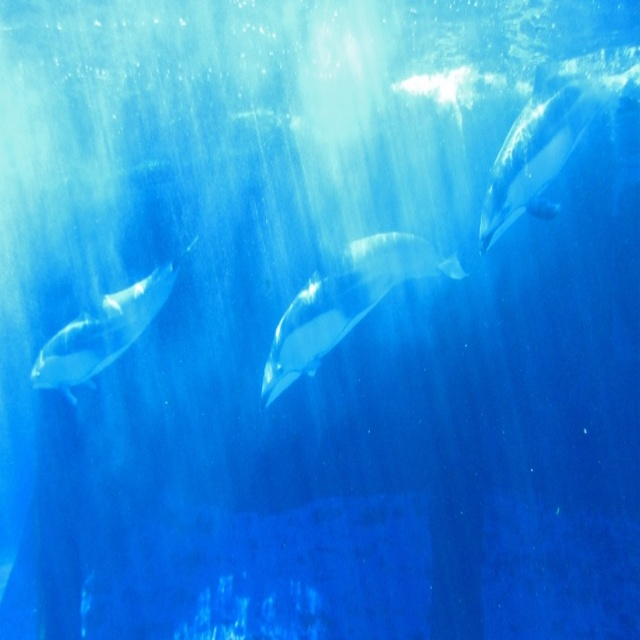Fish: (259, 228, 471, 422), (480, 47, 640, 264), (23, 249, 186, 409)
